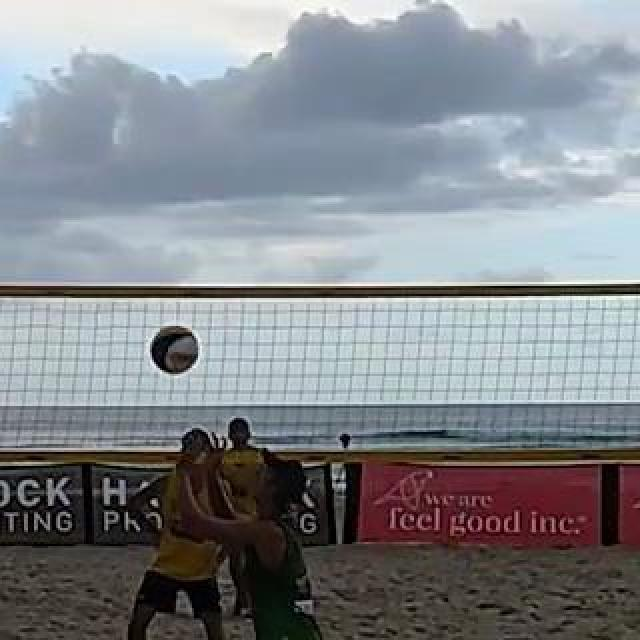volleyball: (151, 326, 199, 376)
